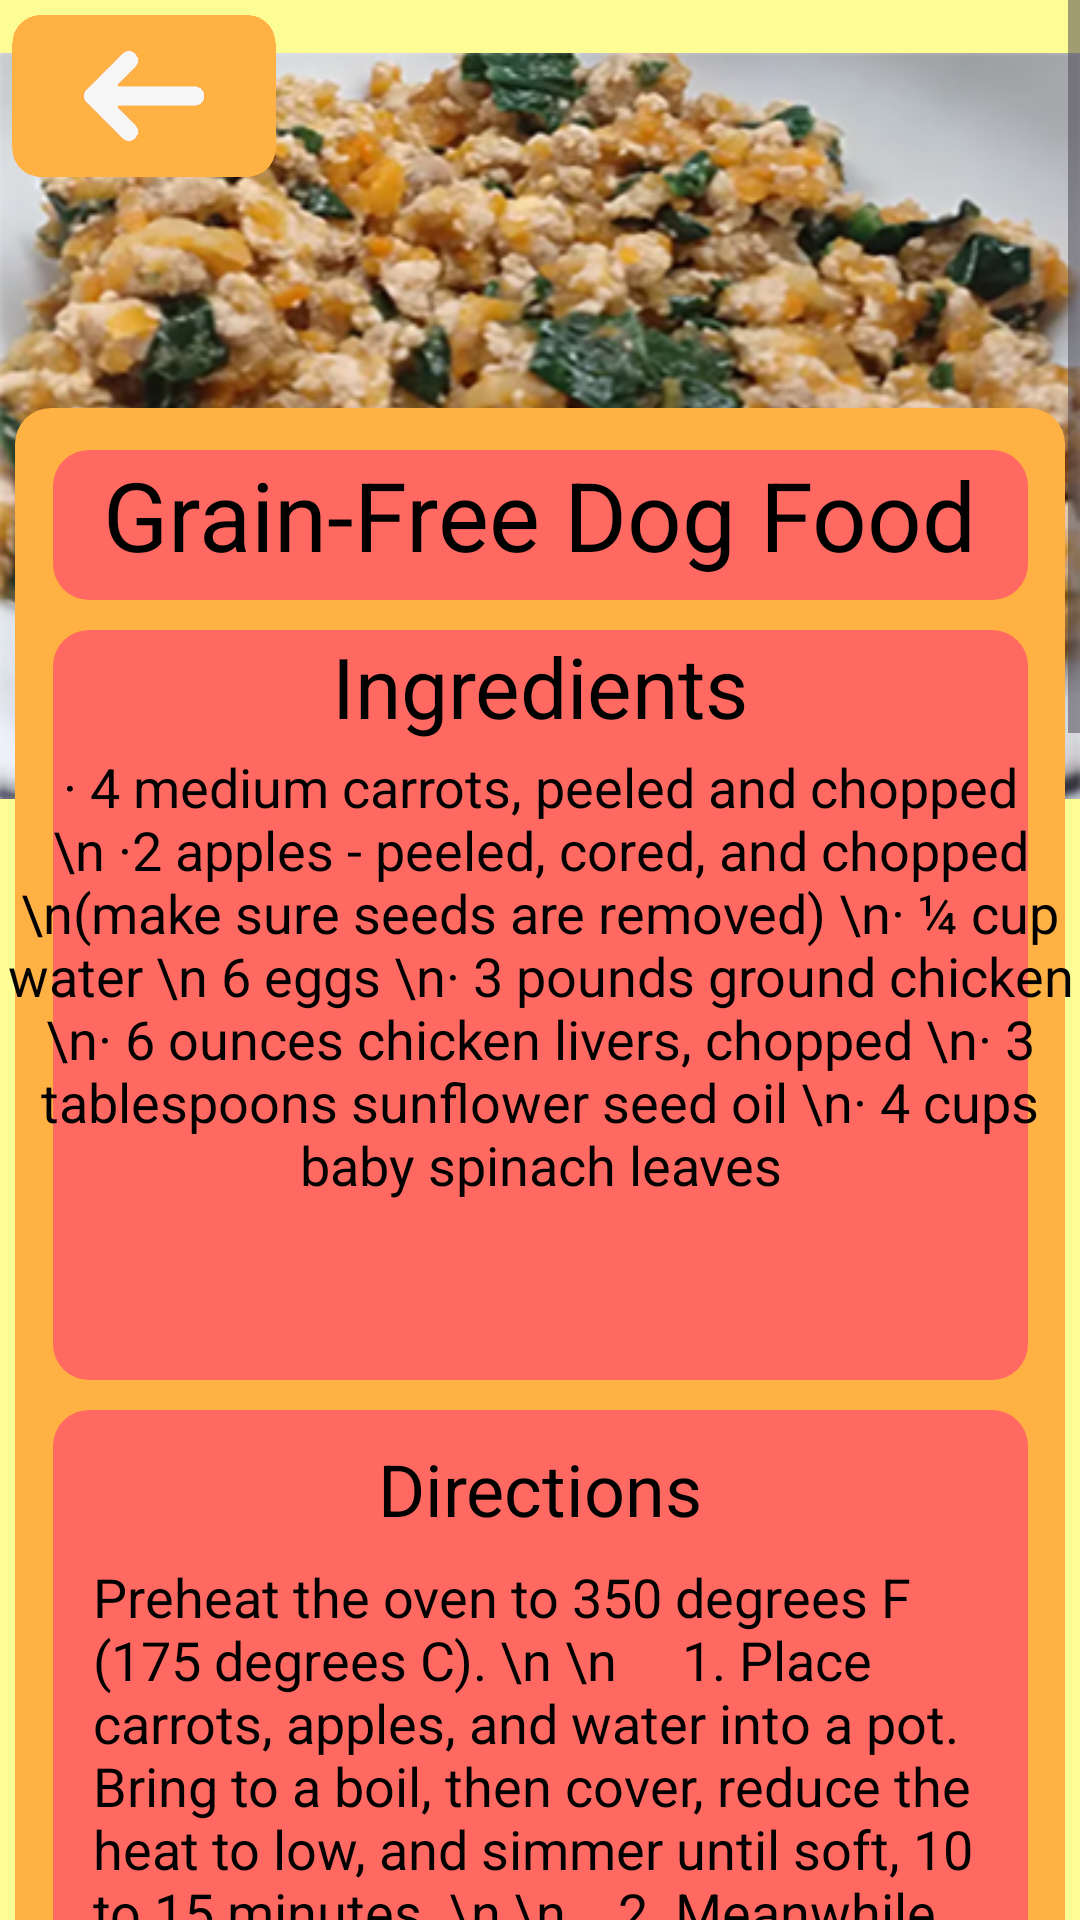

Where to tap for icons on this 1080*1920 app screen, as [x,y]:
backred: [144,96]
